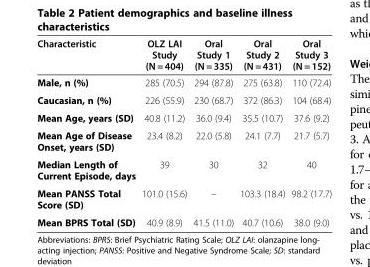table: (36, 37, 331, 227)
table column: (36, 37, 138, 227), (138, 37, 189, 227), (236, 37, 287, 227), (189, 37, 236, 227), (287, 37, 331, 227)
table column header: (36, 37, 331, 73)
table row: (36, 37, 331, 73), (36, 126, 331, 155), (36, 155, 331, 184), (36, 184, 331, 213), (36, 90, 331, 108), (36, 108, 331, 126), (36, 73, 331, 90), (36, 213, 331, 227)
